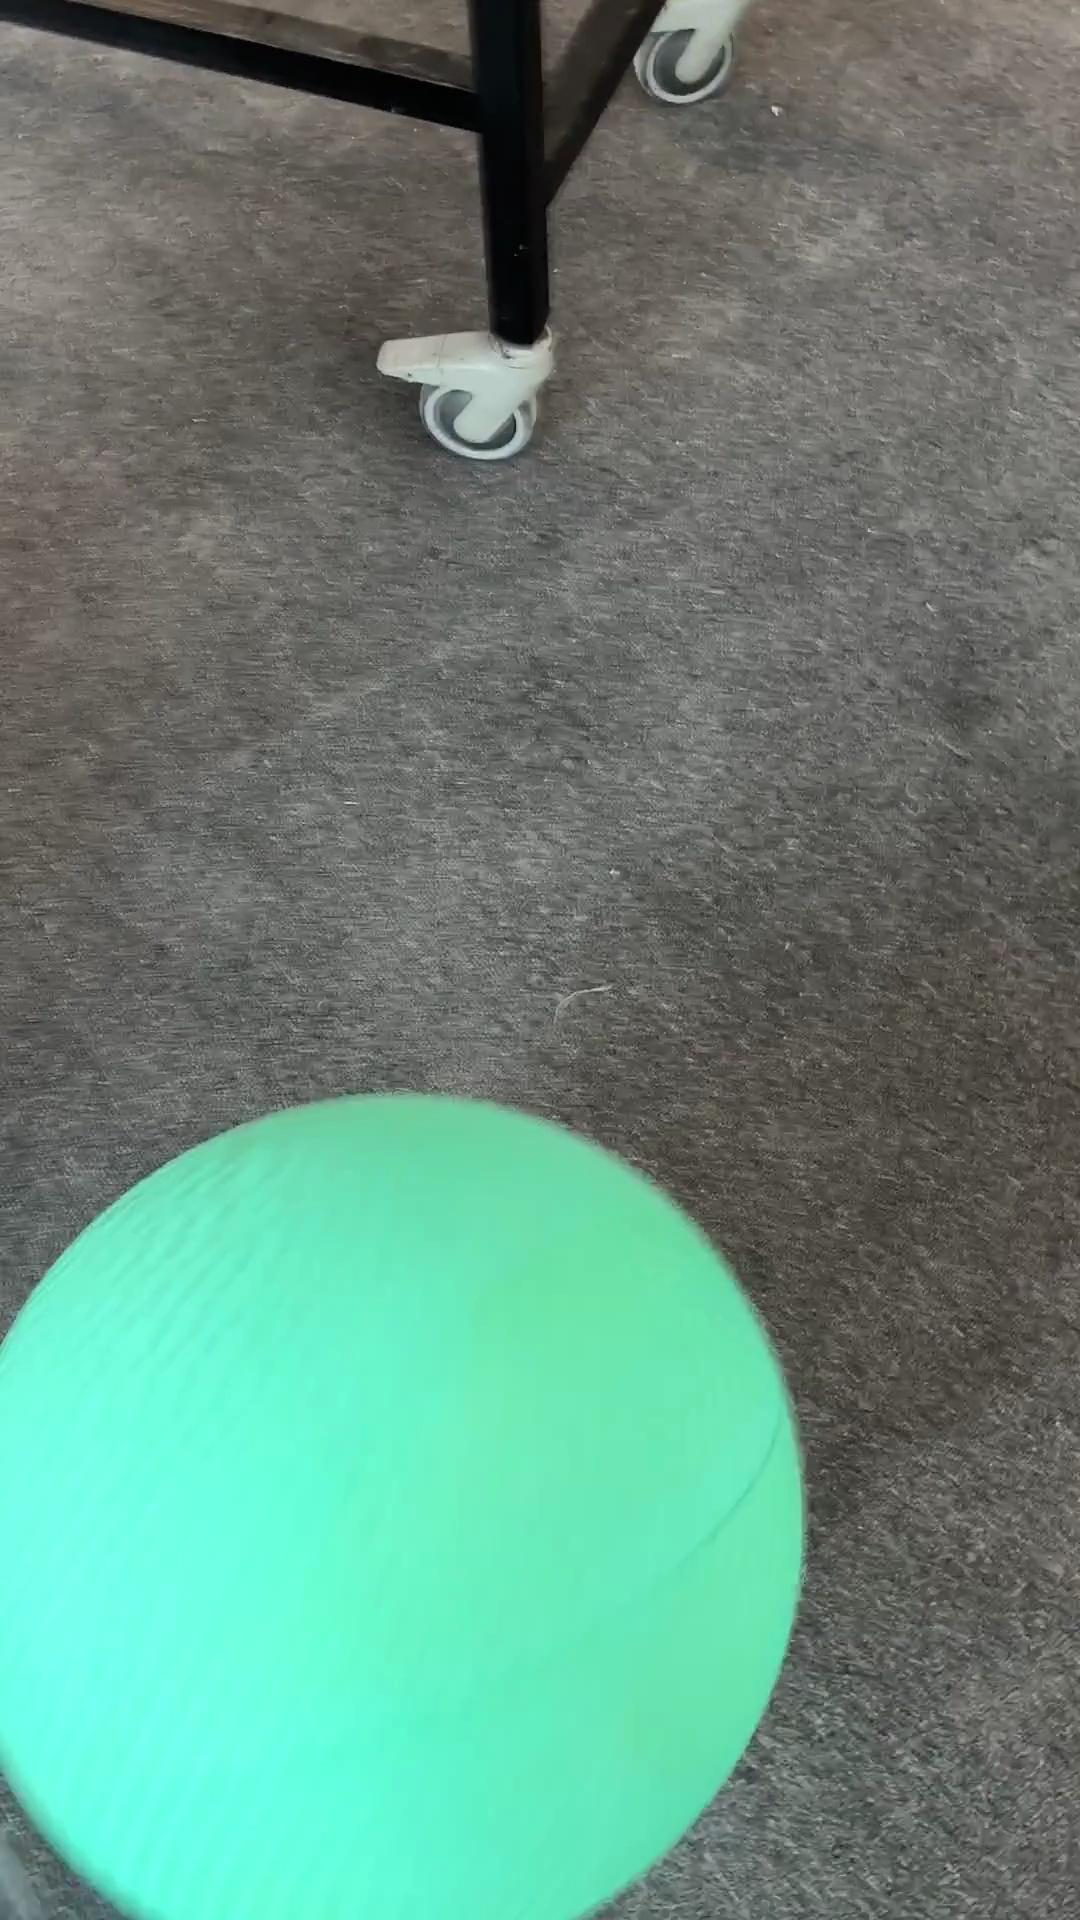ALGAE: (1, 1087, 808, 1917)
